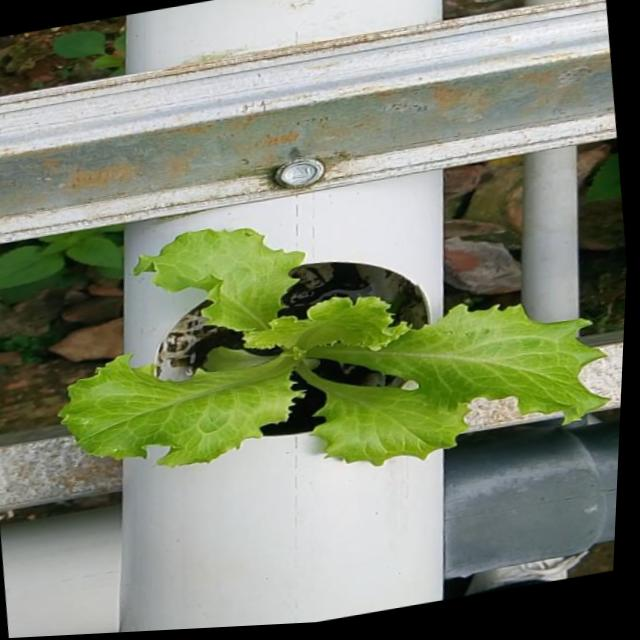Baby: (52, 224, 603, 461)
